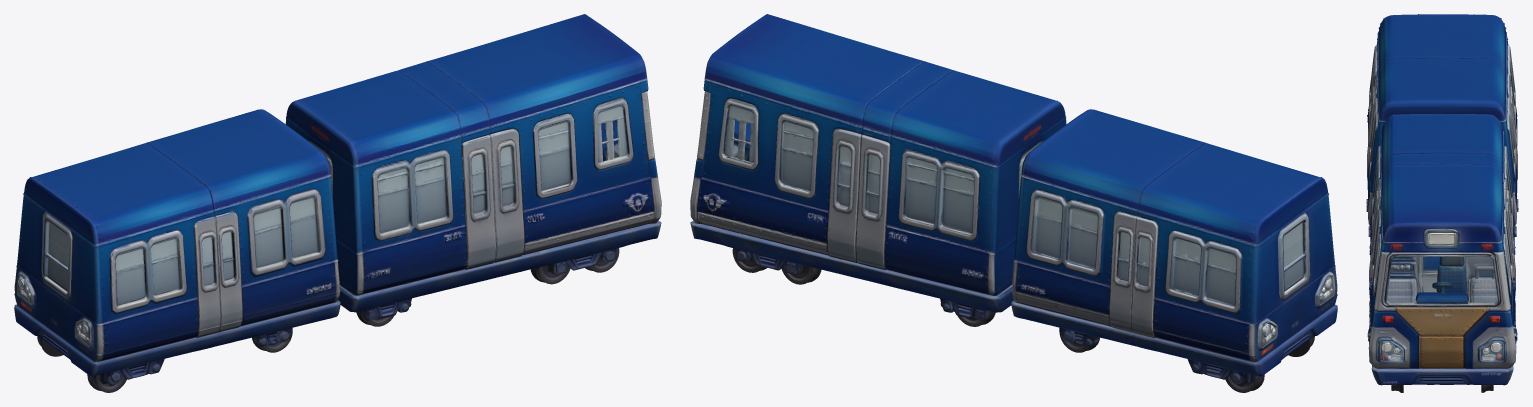
The model's file is train2.glb.
The picture shows the model from 3 angles, left to right: view 1: azimuth 30°, elevation 25°; view 2: azimuth 150°, elevation 25°; view 3: azimuth 270°, elevation 25°; orthographic projection. The views are drawn at different scales.
Visible parts, largest first — view 1: tripo_node_7f65e59d-5584-4487-a14b-b3dced199c5e; view 2: tripo_node_7f65e59d-5584-4487-a14b-b3dced199c5e; view 3: tripo_node_7f65e59d-5584-4487-a14b-b3dced199c5e.
Boxes of the visible parts, left/top/right/bottom form: tripo_node_7f65e59d-5584-4487-a14b-b3dced199c5e: left=14, top=14, right=661, bottom=392; tripo_node_7f65e59d-5584-4487-a14b-b3dced199c5e: left=690, top=14, right=1337, bottom=392; tripo_node_7f65e59d-5584-4487-a14b-b3dced199c5e: left=1366, top=14, right=1518, bottom=392.
Size of the model in its own units: 0.9784 by 0.3448 by 0.2568.
Materials: 1 (1 with a texture image).
